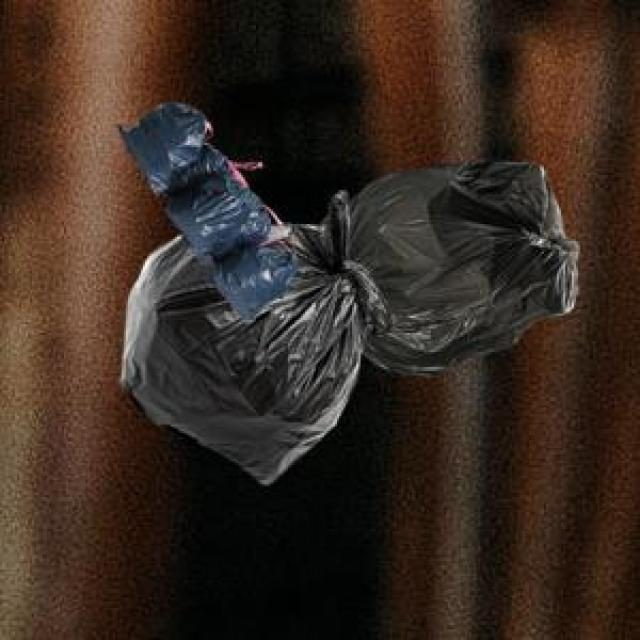Trashbag: (116, 238, 363, 492), (347, 149, 587, 377), (122, 96, 212, 191), (168, 173, 255, 250)
